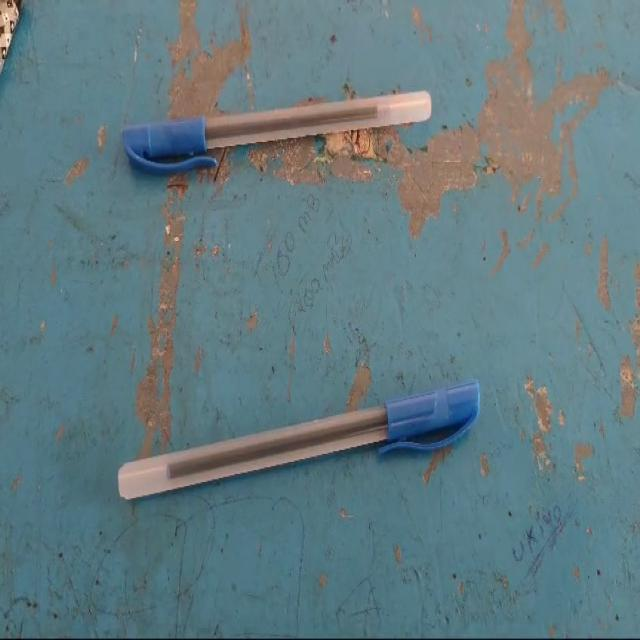pen: (91, 326, 508, 552), (83, 46, 458, 220)
